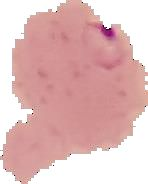parasitized: (76, 23, 130, 71)
